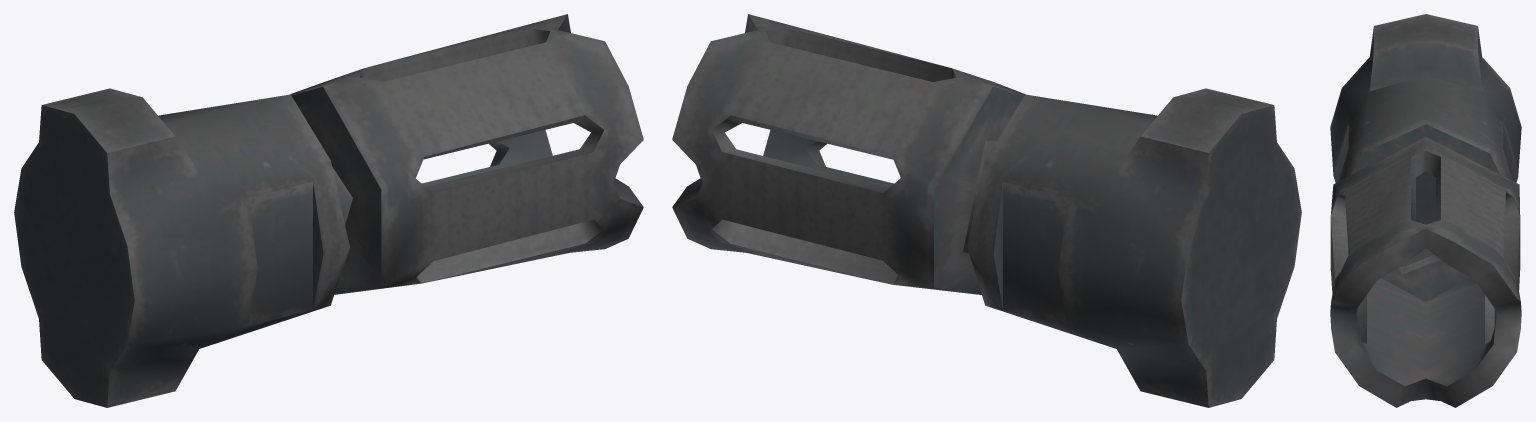
The model's file is ST_Muzzle_Compensater_Mini14.FBX.
3 renders of one model, left to right at view 1: azimuth 30°, elevation 25°; view 2: azimuth 150°, elevation 25°; view 3: azimuth 270°, elevation 25°, orthographic. The views are drawn at different scales.
Visible parts, largest first — view 1: ST_Muzzle_Compensater_Mini14; view 2: ST_Muzzle_Compensater_Mini14; view 3: ST_Muzzle_Compensater_Mini14.
Boxes of the visible parts, box(x1,y1,x2,y2) form: ST_Muzzle_Compensater_Mini14: box(14, 14, 643, 407); ST_Muzzle_Compensater_Mini14: box(672, 14, 1301, 407); ST_Muzzle_Compensater_Mini14: box(1330, 14, 1521, 407).
Bounding box in the file's own units: 5.34 × 2.84 × 2.18.
Materials: 1 (1 with a texture image).
